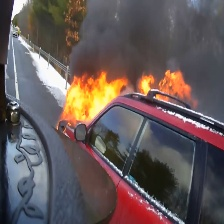fire: (50, 67, 190, 126)
